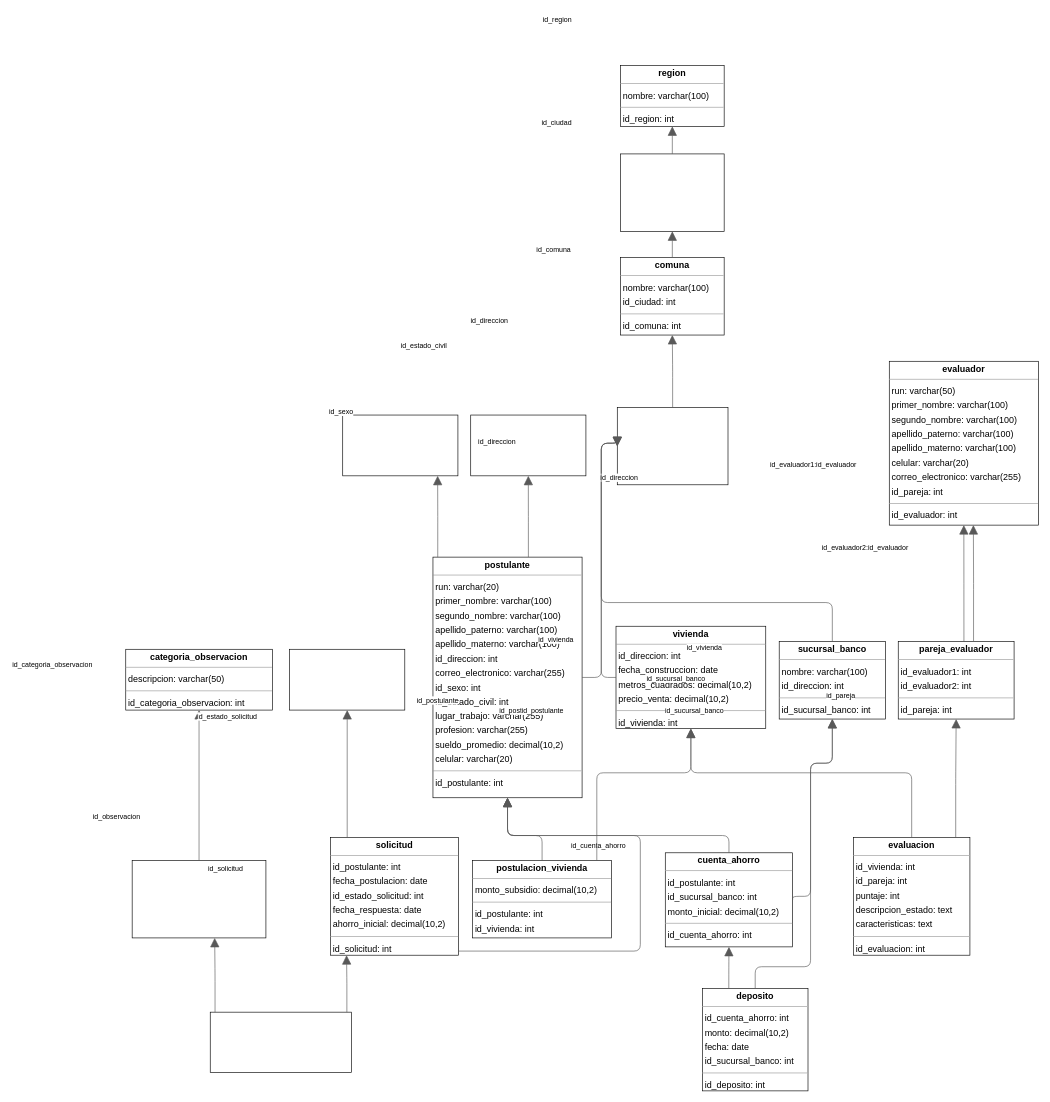
Image size: 1050x1102. Some labels were removed from this diagram. The shapes that lost their labels are listed below. From the top down, each one's box as (x1, y1, x2, y2) in pixels, then its label:
(620, 153, 724, 231): ciudad nombre: varchar(100) id_region: int id_ciudad: int
(342, 414, 458, 476): sexo descripcion: varchar(50) id_sexo: int
(470, 414, 586, 476): estado_civil descripcion: varchar(50) id_estado_civil: int
(617, 407, 728, 485): direccion direccion: varchar(255) id_comuna: int id_direccion: int
(289, 649, 405, 710): estado_solicitud descripcion: varchar(50) id_estado_solicitud: int
(132, 860, 266, 938): observacion descripcion: text id_categoria_observacion: int id_observacion: int
(210, 1012, 352, 1072): solicitud_observacion id_solicitud: int id_observacion: int
